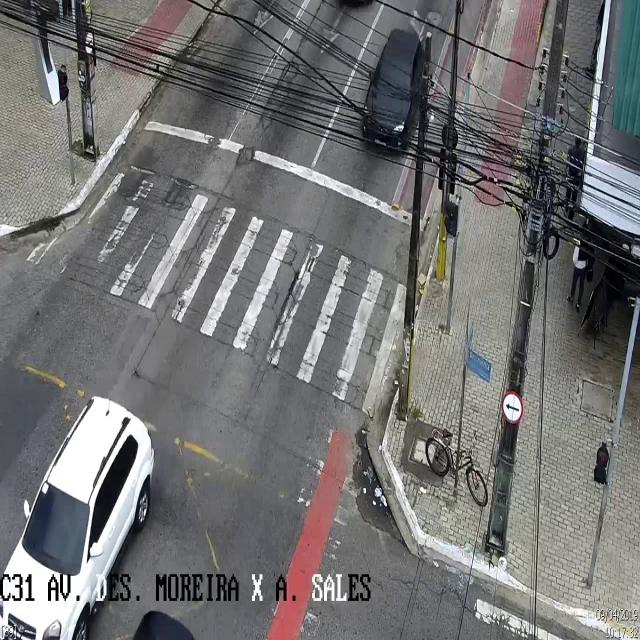Car: (0, 396, 153, 640), (360, 28, 430, 154)
